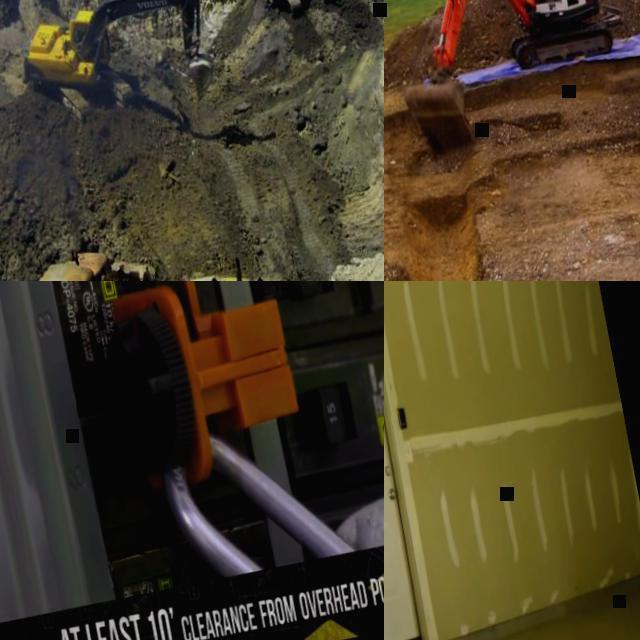machinery: (384, 0, 632, 164), (14, 0, 223, 132), (0, 229, 177, 281), (168, 246, 299, 281)
person: (324, 377, 384, 552)
